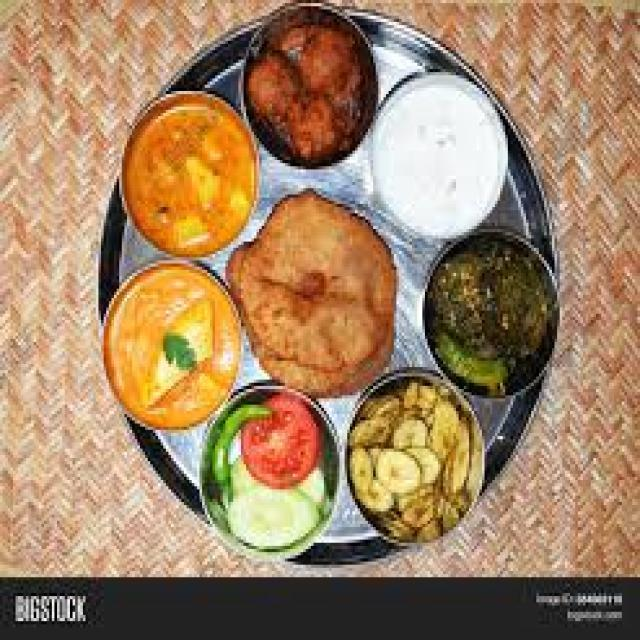curd: (363, 72, 513, 240)
pickle: (232, 404, 329, 494)
sweet: (106, 263, 243, 427), (417, 240, 557, 390), (237, 406, 327, 493)
veg-fry: (111, 94, 264, 263), (240, 8, 384, 176)
